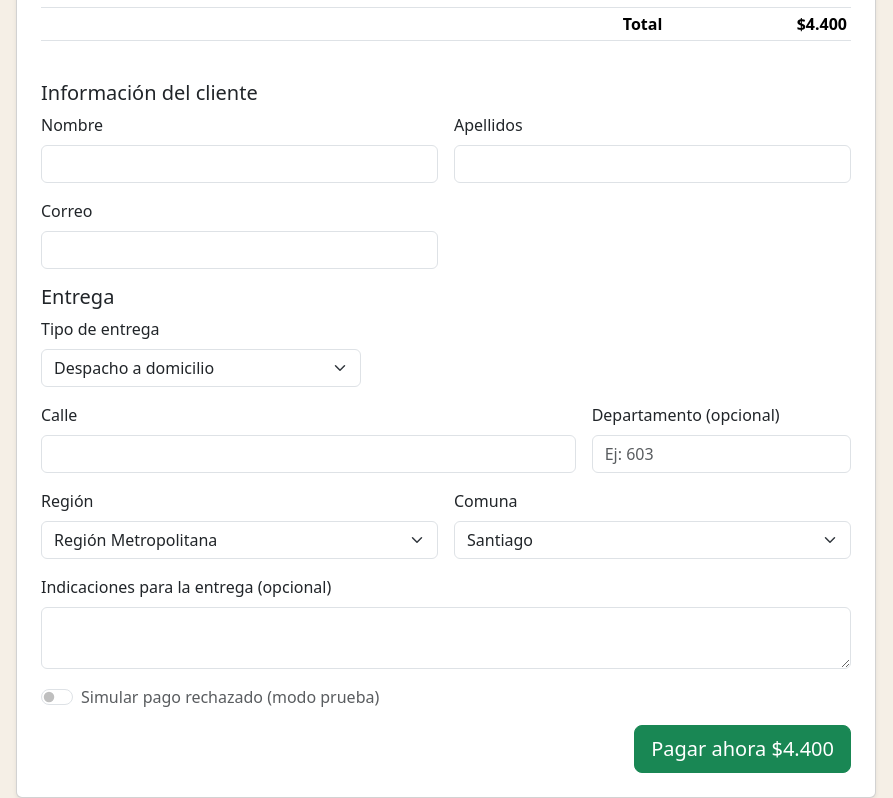
Test case: CheckoutView › muestra errores si faltan datos obligatorios
(page scrolled)
Click the button "Pagar ahora $4.400".
click(743, 749)  # box top-left (634, 725), bottom-right (851, 773)
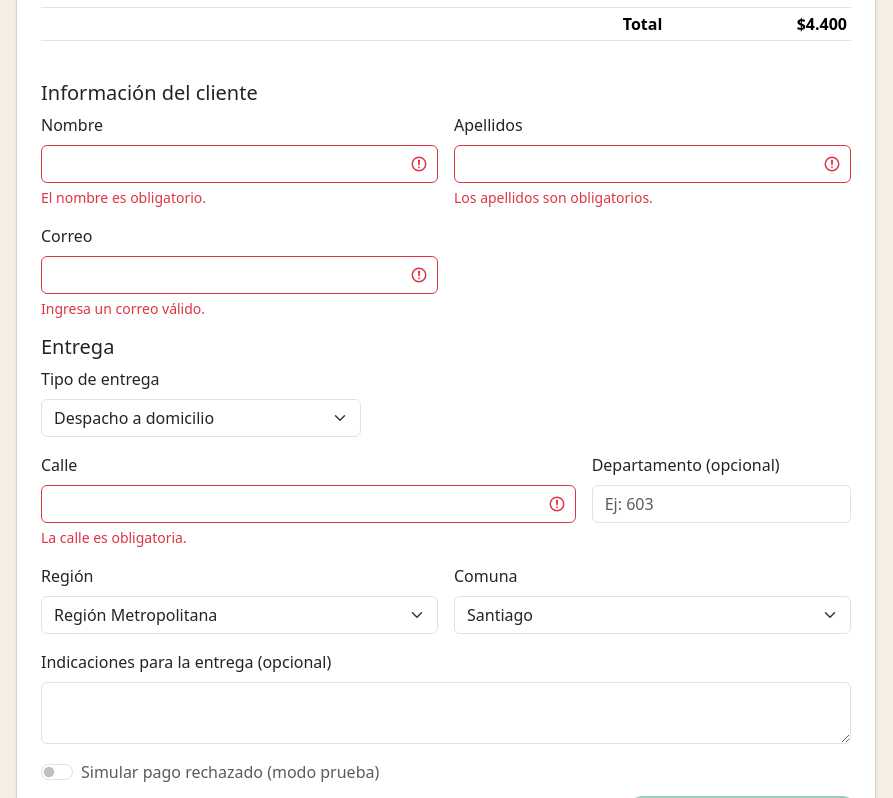
Expected: the text "El nombre es obligatorio." is shown, top-left (41, 188), bottom-right (206, 207)
Expected: the text "La calle es obligatoria." is shown, top-left (41, 528), bottom-right (187, 547)
